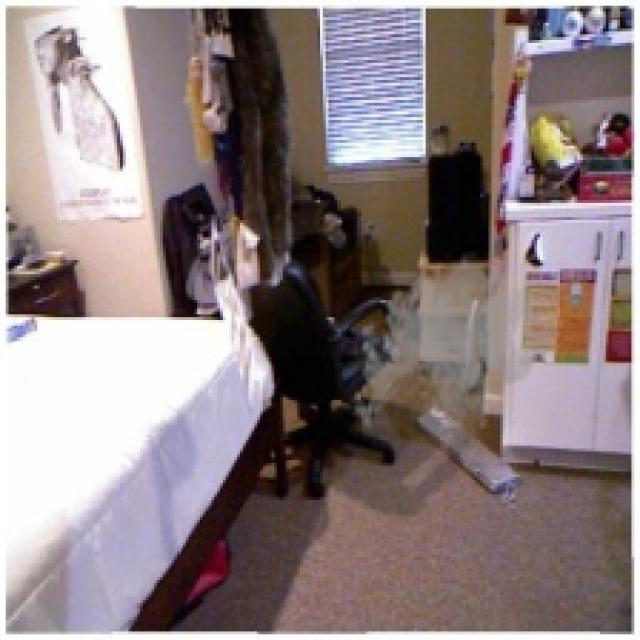smoke: (349, 249, 554, 457)
